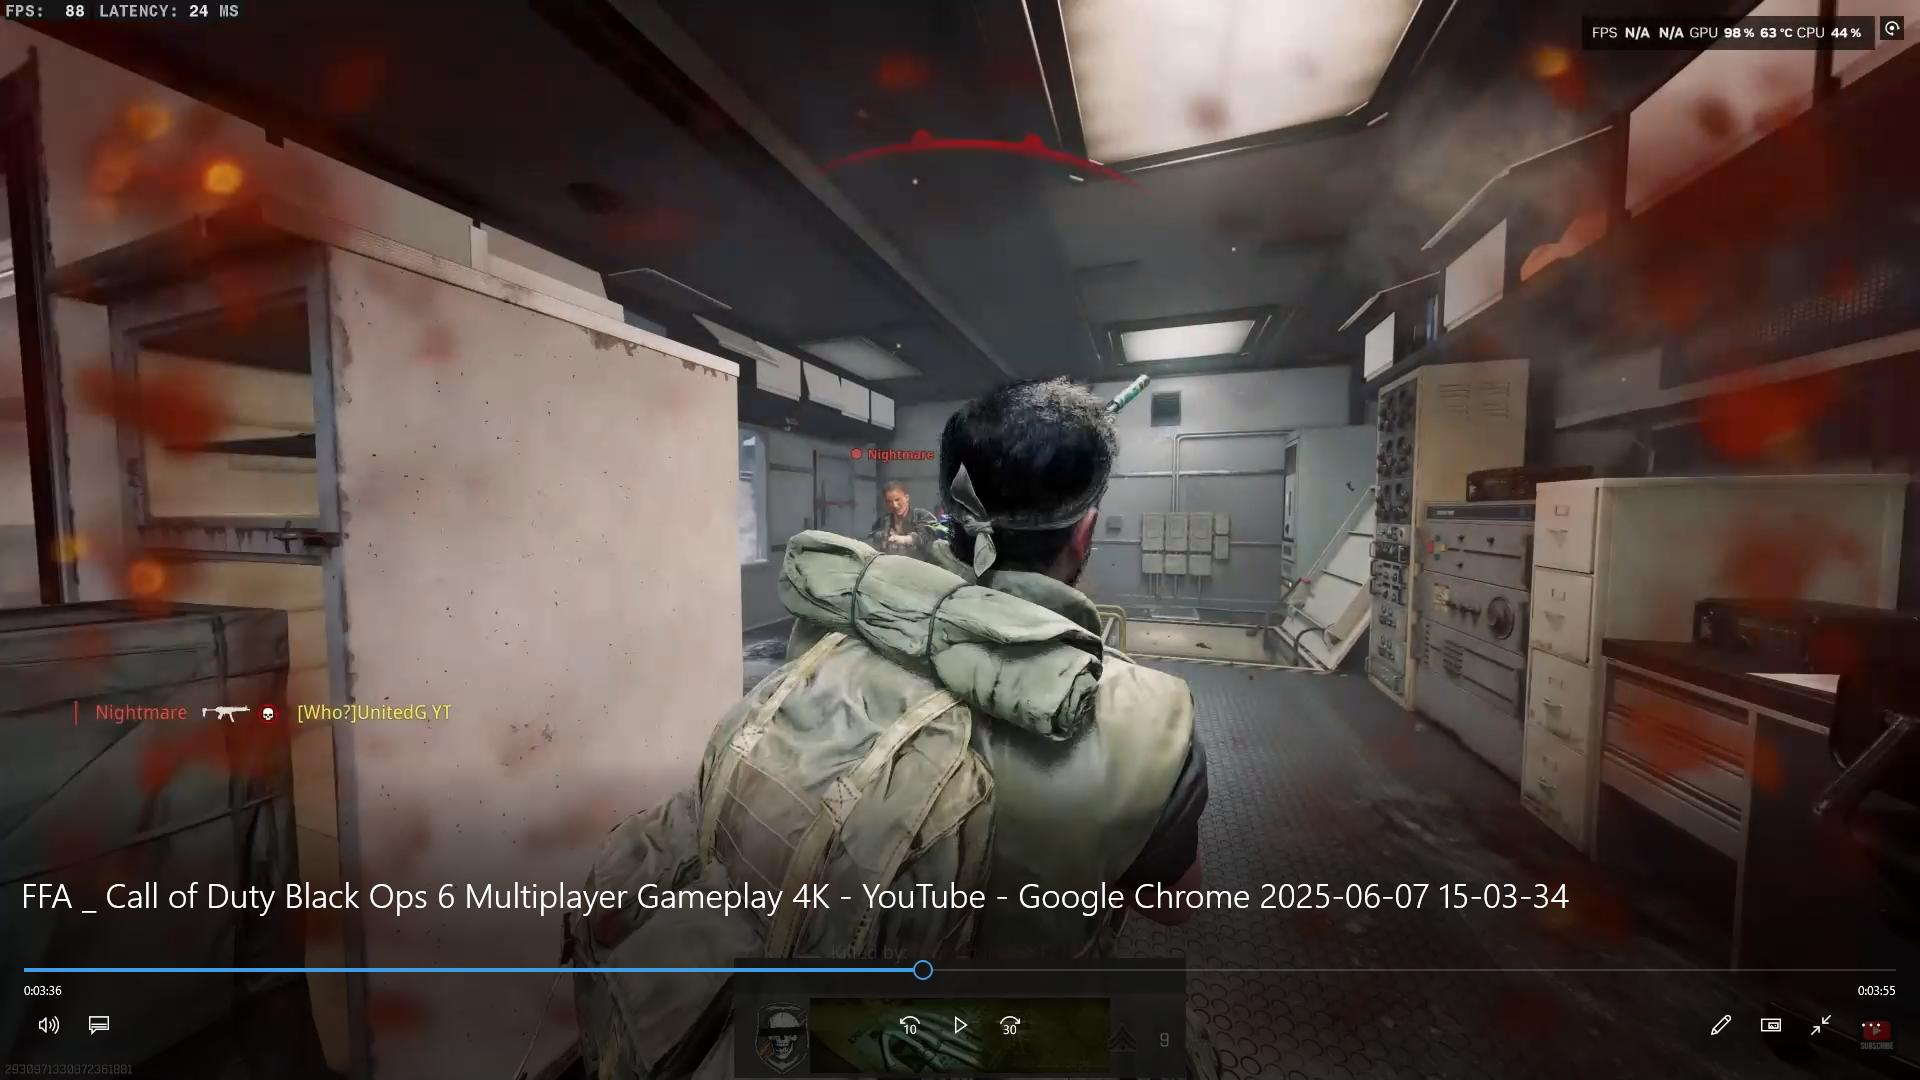Enemy: (837, 443, 942, 549)
